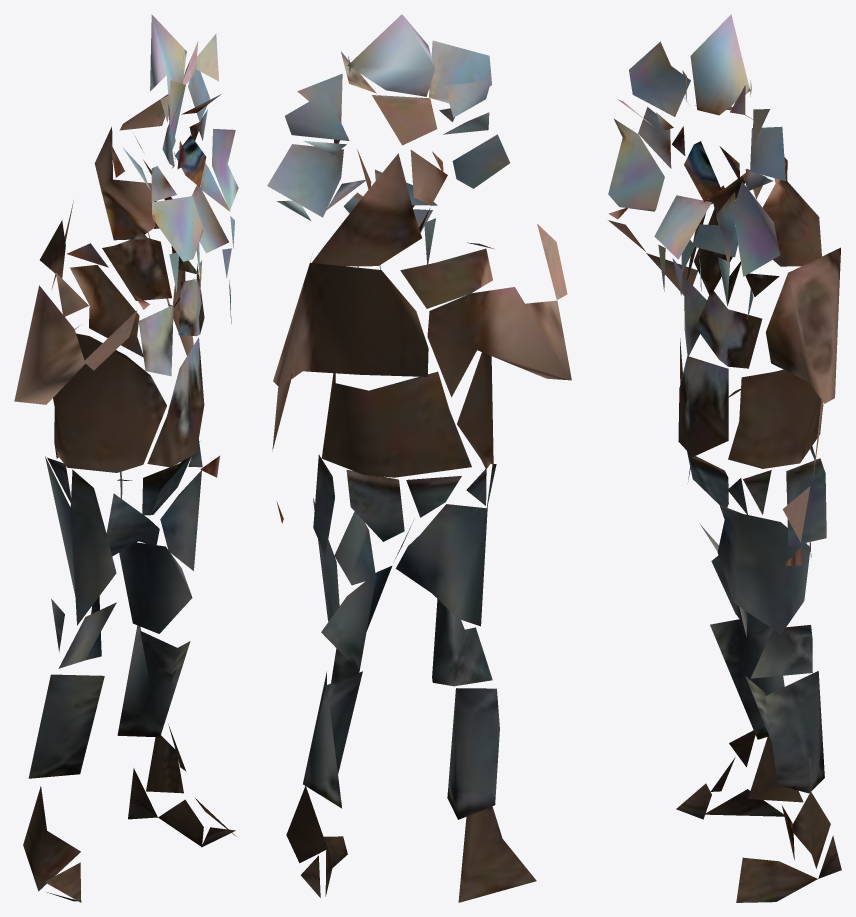
File: crowd_tough_lite.glb
3 renders of one model, left to right at view 1: azimuth 30°, elevation 25°; view 2: azimuth 150°, elevation 25°; view 3: azimuth 270°, elevation 25°, orthographic.
Visible parts, largest first — view 1: tripo_node_533e37fd-5cc7-4275-9052-2d8a21aa2958; view 2: tripo_node_533e37fd-5cc7-4275-9052-2d8a21aa2958; view 3: tripo_node_533e37fd-5cc7-4275-9052-2d8a21aa2958.
Boxes of the visible parts, bbox=[...] form: tripo_node_533e37fd-5cc7-4275-9052-2d8a21aa2958: bbox=[14, 14, 238, 902]; tripo_node_533e37fd-5cc7-4275-9052-2d8a21aa2958: bbox=[267, 14, 571, 902]; tripo_node_533e37fd-5cc7-4275-9052-2d8a21aa2958: bbox=[608, 14, 841, 902].
Size of the model in its own units: 0.595 by 1.87 by 0.4789.
1 material, 1 textured.
